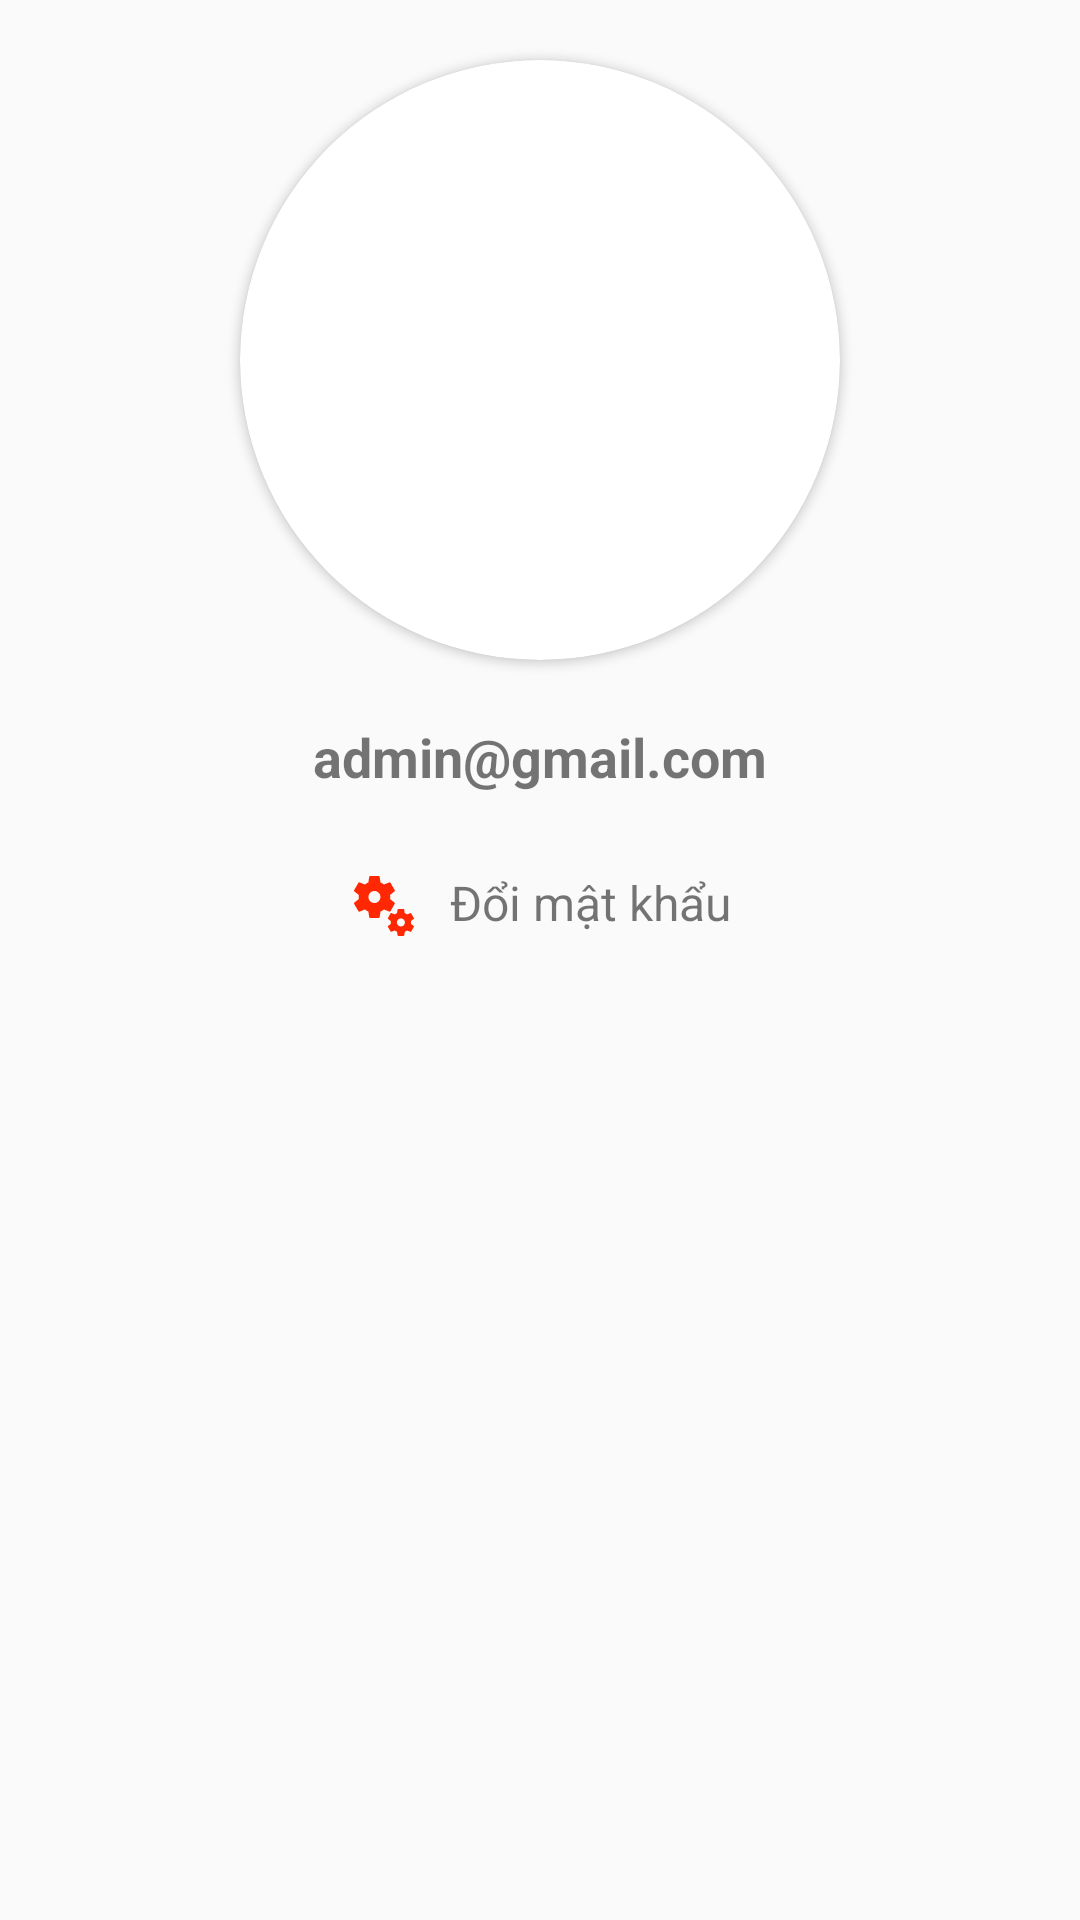

Icon bounding boxes for this 1080px×1920px phone screenshot, format (x1, y1, x2, y2):
miscellaneous services: (354, 876, 414, 936)
